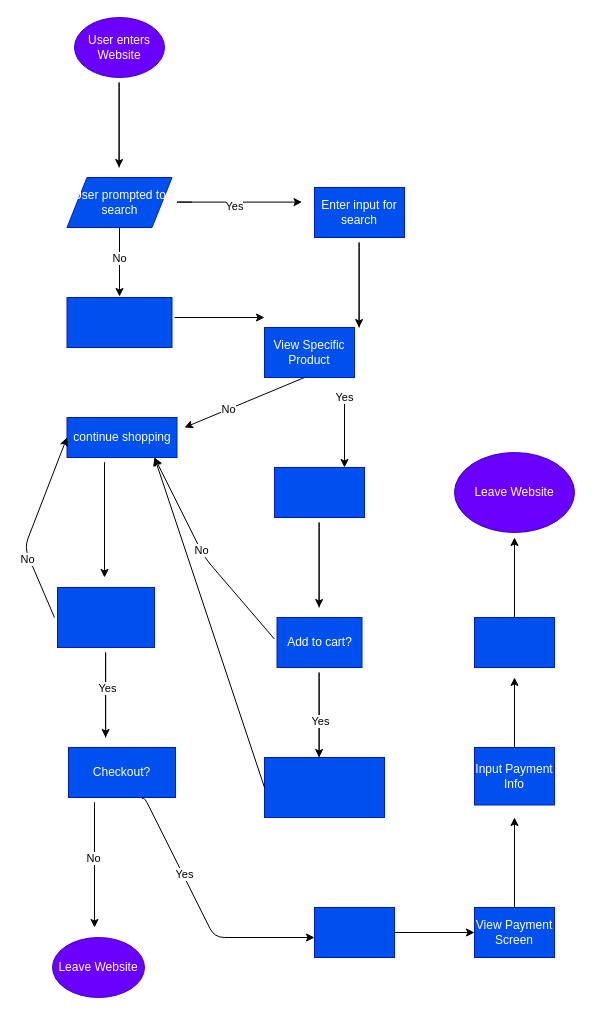
This 592x1015 diagram has some shape labels left out. The shapes that lost their labels are listed below. From the top down, each one's box as (x1, y1, x2, y2) in pixels, then its label:
(66, 296, 172, 348): Explore proucts on home page
(274, 466, 364, 518): Product Webpage opens
(56, 586, 154, 648): Done Shopping?
(474, 616, 554, 668): Order Confirmation Screen
(264, 756, 384, 818): Added to cart confirmation
(314, 906, 394, 958): View Cart Screen
